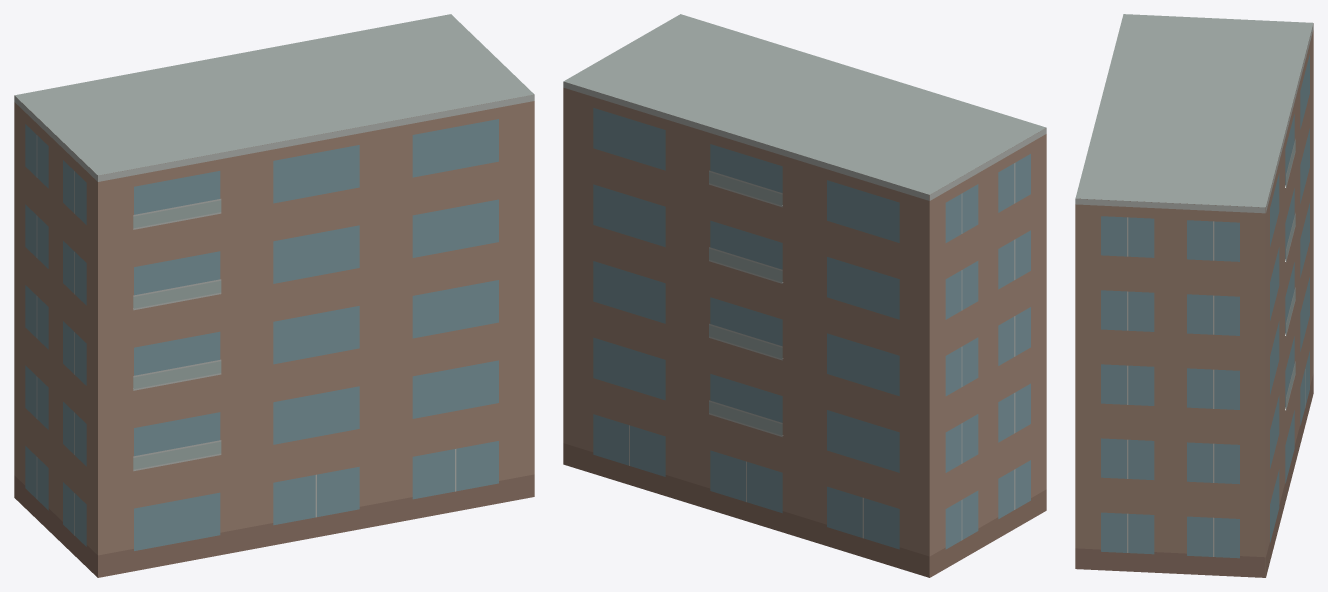
File: residential-7ff8fb09-2b97-428e-b877-78ed5174edc2.glb
3 renders of one model, left to right at view 1: azimuth 30°, elevation 25°; view 2: azimuth 150°, elevation 25°; view 3: azimuth 270°, elevation 25°, orthographic. The views are drawn at different scales.
Visible parts, largest first — view 1: residential-7ff8fb09-2b97-428e-b877-78ed5174edc2.tmp; view 2: residential-7ff8fb09-2b97-428e-b877-78ed5174edc2.tmp; view 3: residential-7ff8fb09-2b97-428e-b877-78ed5174edc2.tmp.
Boxes of the visible parts, left/top/right/bottom form: residential-7ff8fb09-2b97-428e-b877-78ed5174edc2.tmp: left=14, top=14, right=534, bottom=577; residential-7ff8fb09-2b97-428e-b877-78ed5174edc2.tmp: left=563, top=14, right=1046, bottom=577; residential-7ff8fb09-2b97-428e-b877-78ed5174edc2.tmp: left=1075, top=14, right=1313, bottom=577.
Size of the model in its own units: 17.08 by 15.25 by 8.9.
